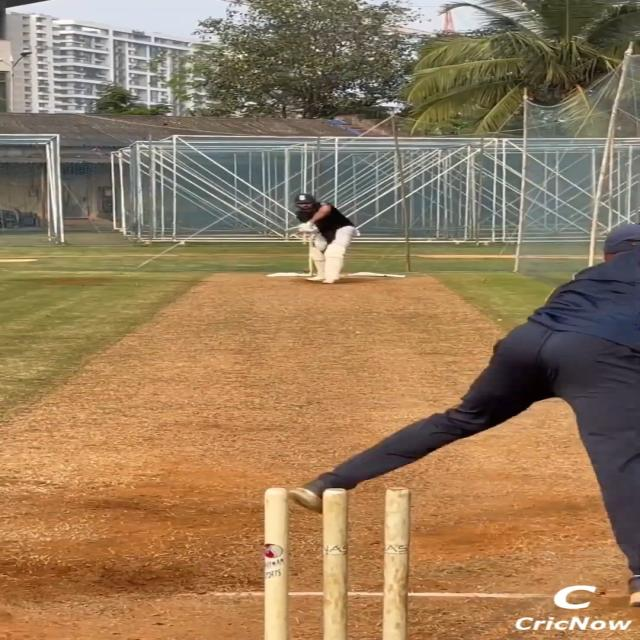ball: (302, 268, 310, 274)
stump: (260, 486, 410, 640)
